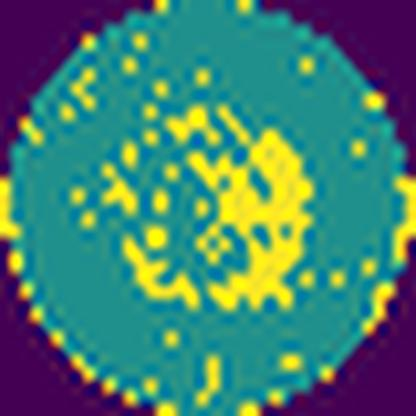Donut: (76, 89, 324, 323)
